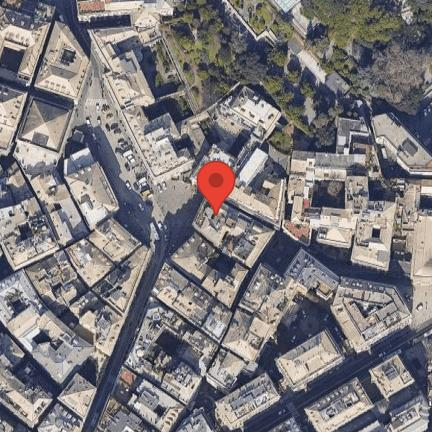area_open: (94, 76, 157, 194), (126, 165, 204, 256), (257, 292, 336, 374), (388, 207, 432, 344), (258, 226, 304, 276), (61, 107, 99, 155), (1, 48, 26, 91)
built: (192, 194, 275, 269), (330, 279, 414, 352), (121, 102, 196, 180), (0, 197, 60, 270), (1, 357, 60, 429), (36, 24, 91, 101), (0, 7, 54, 83), (238, 263, 301, 328), (278, 329, 345, 389), (214, 372, 282, 431), (93, 244, 150, 314), (124, 297, 172, 375), (372, 110, 432, 172), (285, 249, 343, 312), (306, 378, 372, 432), (67, 164, 120, 231), (18, 98, 74, 155), (349, 203, 396, 270), (126, 380, 186, 432), (225, 173, 286, 224), (222, 307, 275, 365), (33, 336, 94, 385), (192, 146, 245, 196), (0, 272, 48, 327), (170, 230, 217, 285), (233, 86, 284, 136), (87, 218, 141, 264), (207, 347, 255, 393), (203, 262, 251, 307), (290, 151, 370, 178), (94, 398, 156, 432), (283, 174, 312, 246), (105, 69, 156, 109), (161, 358, 203, 406), (371, 355, 416, 399), (175, 282, 217, 329), (150, 263, 191, 310), (180, 329, 219, 378), (310, 209, 357, 249), (0, 85, 26, 155), (59, 375, 97, 420), (387, 395, 431, 432), (29, 171, 73, 208), (0, 163, 35, 209), (38, 309, 77, 349), (141, 347, 179, 387), (200, 300, 233, 345), (334, 118, 373, 156), (233, 149, 270, 187), (37, 404, 87, 432), (0, 331, 27, 382), (412, 212, 432, 280), (5, 307, 42, 343), (66, 238, 102, 274), (79, 252, 116, 287), (46, 208, 77, 248), (370, 180, 421, 204), (351, 142, 384, 179), (87, 26, 138, 49), (177, 407, 218, 432), (165, 311, 196, 343), (25, 262, 53, 296), (343, 177, 371, 210), (104, 51, 142, 74), (20, 326, 51, 353), (107, 0, 159, 15), (41, 255, 65, 286), (394, 201, 413, 240), (55, 251, 78, 283), (55, 282, 81, 306), (95, 42, 122, 65), (129, 10, 163, 28), (71, 148, 97, 171), (0, 414, 31, 432), (268, 417, 303, 432), (359, 417, 394, 432), (77, 0, 108, 16), (32, 1, 56, 19), (276, 0, 304, 13), (64, 157, 78, 179), (73, 278, 90, 296), (41, 291, 58, 308), (158, 0, 173, 17), (4, 0, 24, 11), (421, 180, 432, 193)
vegetation_high: (159, 0, 362, 156), (297, 0, 432, 115)
vegetation_low: (118, 27, 184, 99), (230, 0, 297, 45), (143, 90, 195, 124)
